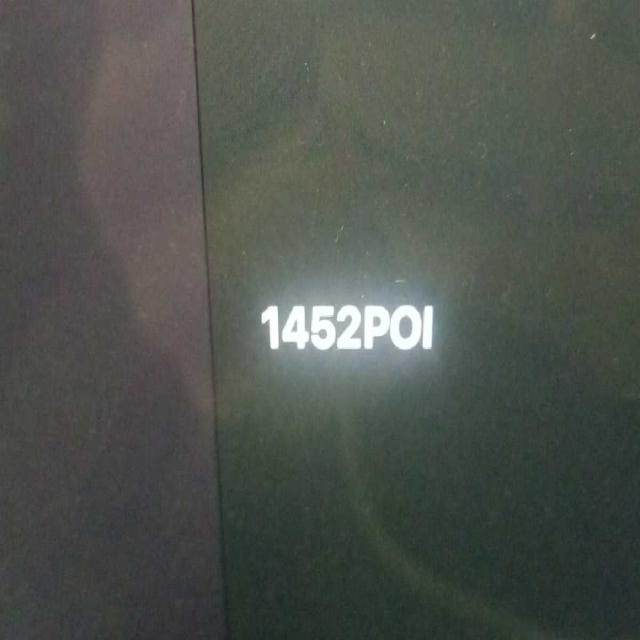license_plate: (251, 280, 448, 360), (364, 301, 391, 354)
